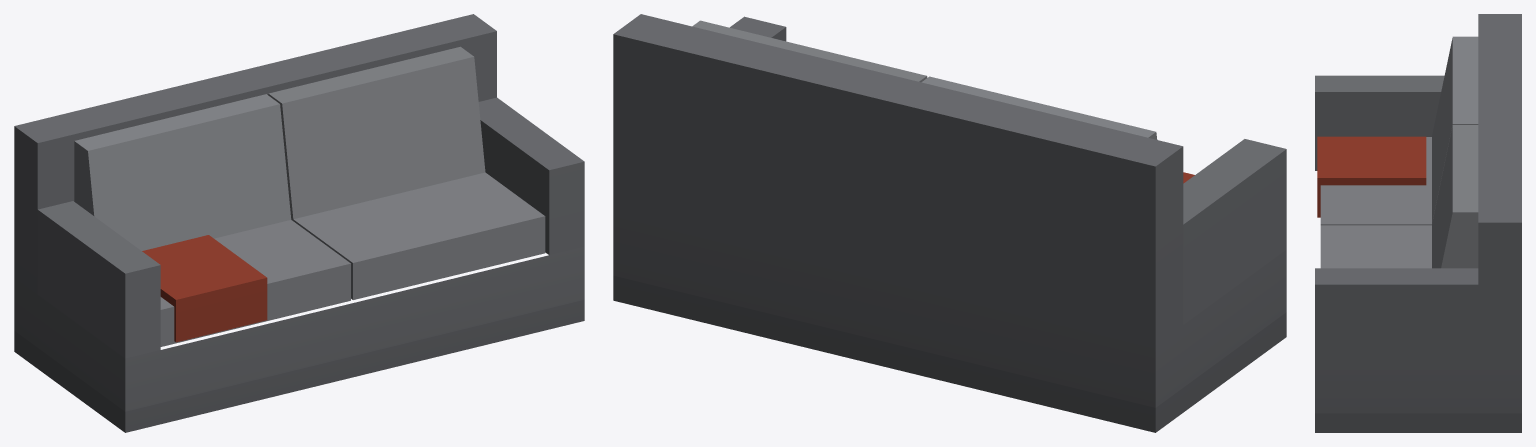
The model's file is sofa.two_seat.grey.glb.
3 views of the same model, side by side, from view 1: azimuth 30°, elevation 25°; view 2: azimuth 150°, elevation 25°; view 3: azimuth 270°, elevation 25° (orthographic). The views are drawn at different scales.
Parts seen in each view (by area): view 1: sofa_two_seat_grey; view 2: sofa_two_seat_grey; view 3: sofa_two_seat_grey.
Boxes of the visible parts, bbox=[...] form: sofa_two_seat_grey: bbox=[14, 14, 584, 432]; sofa_two_seat_grey: bbox=[613, 14, 1286, 432]; sofa_two_seat_grey: bbox=[1315, 14, 1521, 432].
Size of what is drawn, in the model's own units: 1.81 by 0.85 by 0.758.
